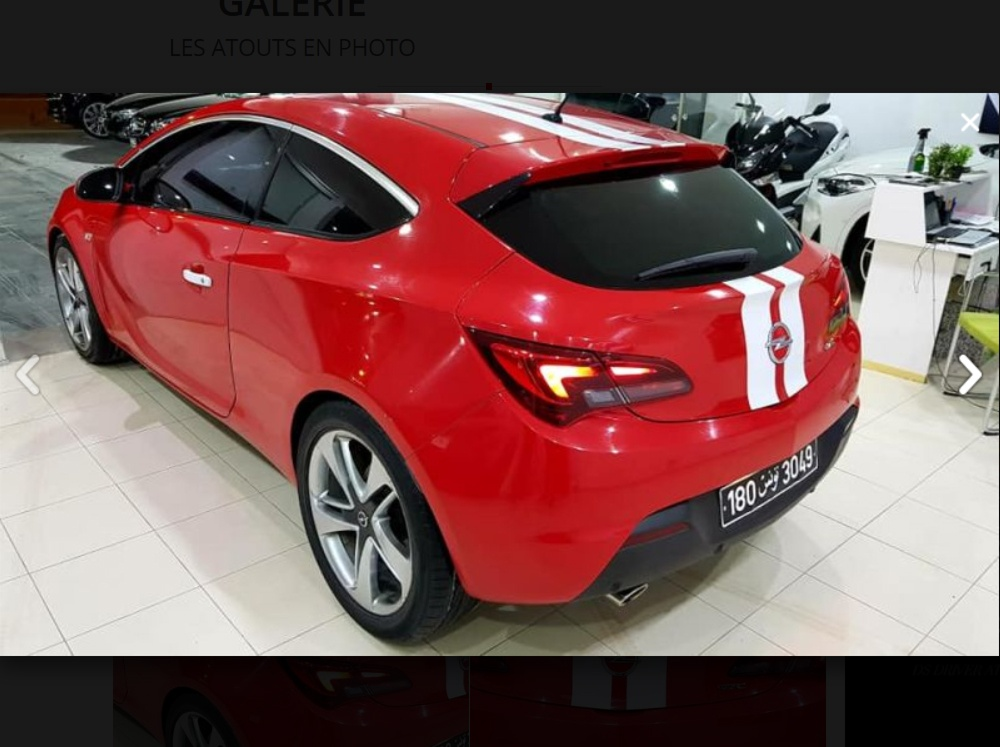LP: (715, 434, 825, 530)
